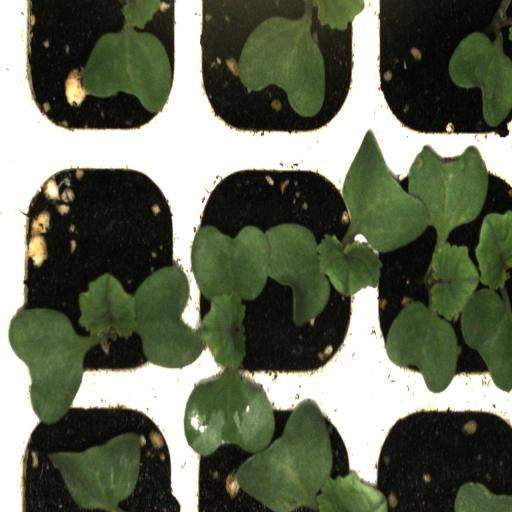seedling: (14, 152, 184, 393)
twoseedling: (185, 152, 366, 395)
